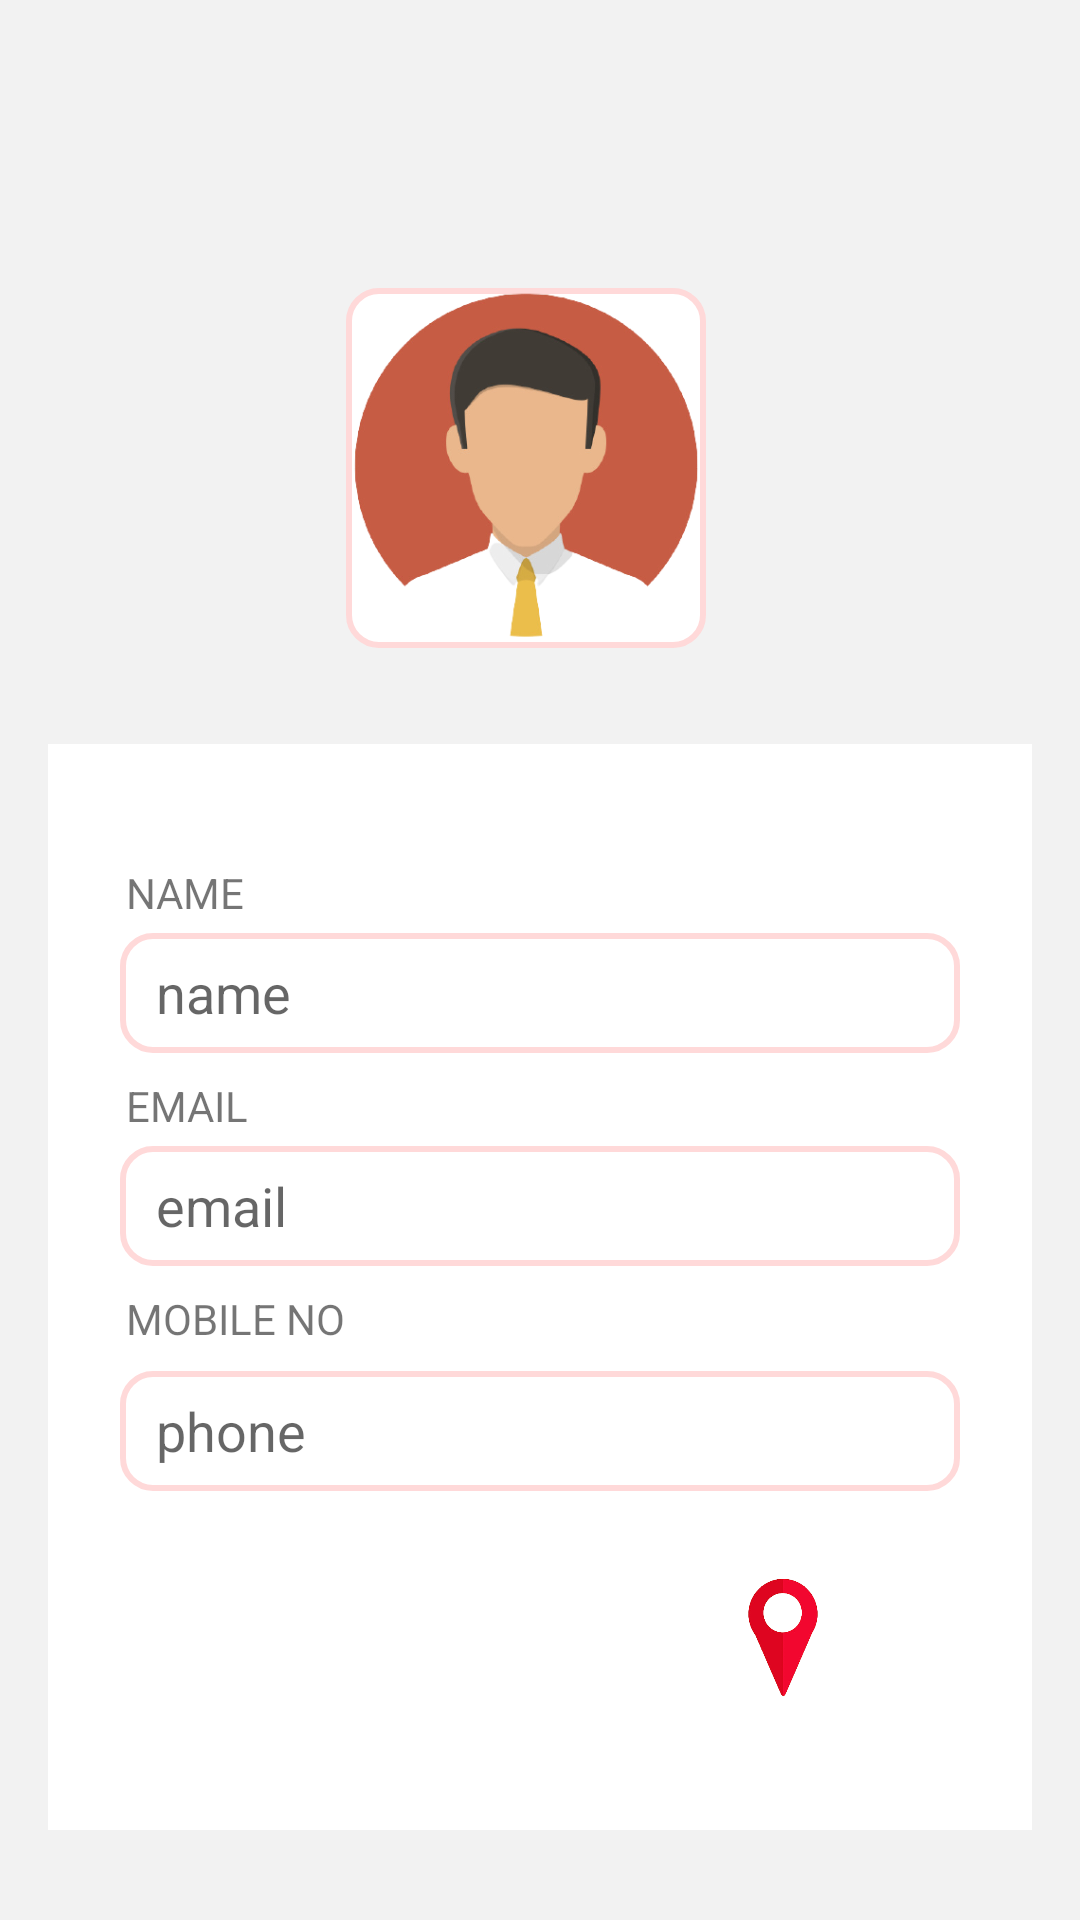

Named icons in this screenshot (1080px×1920px) and their centers, (x,y):
proloc: (783,1637)
userprofile: (526,468)
